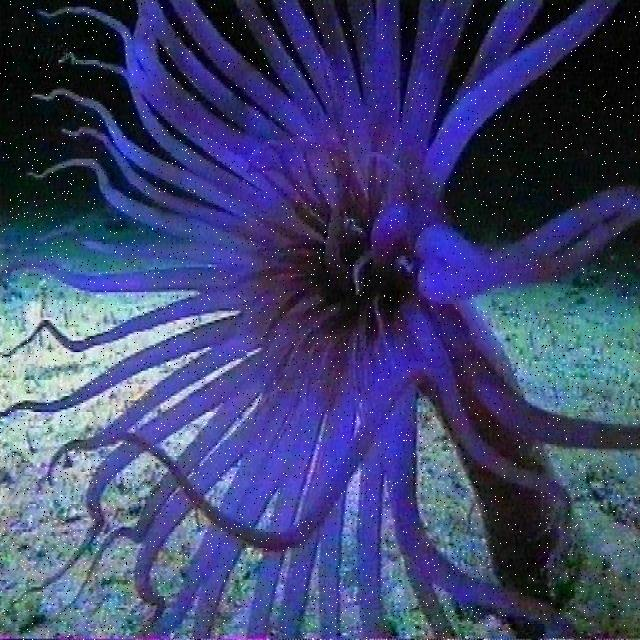reefs: (10, 0, 639, 639)
